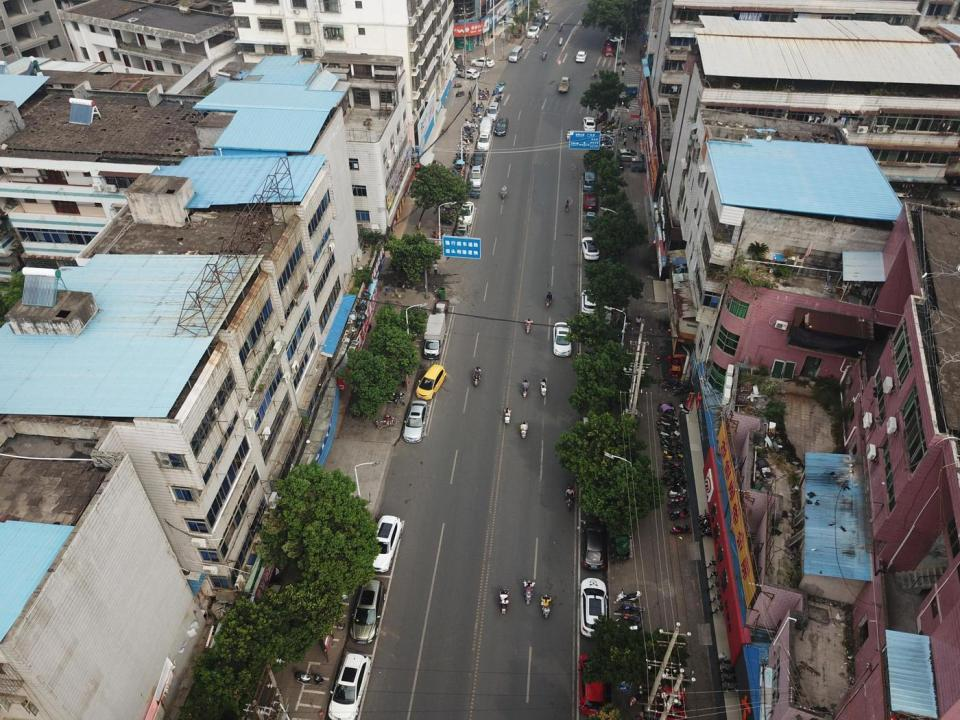car: (328, 653, 372, 720), (349, 579, 386, 643), (368, 516, 403, 572), (578, 653, 606, 714), (580, 578, 607, 638), (581, 520, 605, 570), (403, 400, 429, 444), (416, 365, 447, 400), (552, 321, 572, 356), (580, 289, 598, 317), (581, 236, 600, 260), (613, 148, 645, 161), (459, 201, 475, 224), (454, 222, 470, 243), (582, 191, 598, 211), (476, 132, 492, 150), (494, 117, 509, 136), (471, 150, 485, 170), (443, 52, 462, 66), (471, 56, 495, 67), (458, 68, 480, 79), (479, 117, 493, 133), (583, 116, 595, 132), (526, 25, 539, 38), (604, 36, 616, 48), (534, 14, 545, 27), (575, 51, 588, 62), (542, 9, 552, 20)
truck: (423, 314, 447, 358), (434, 298, 449, 317), (558, 77, 570, 92)
van: (508, 44, 524, 62), (469, 166, 482, 186), (583, 171, 595, 192), (486, 101, 499, 120)
